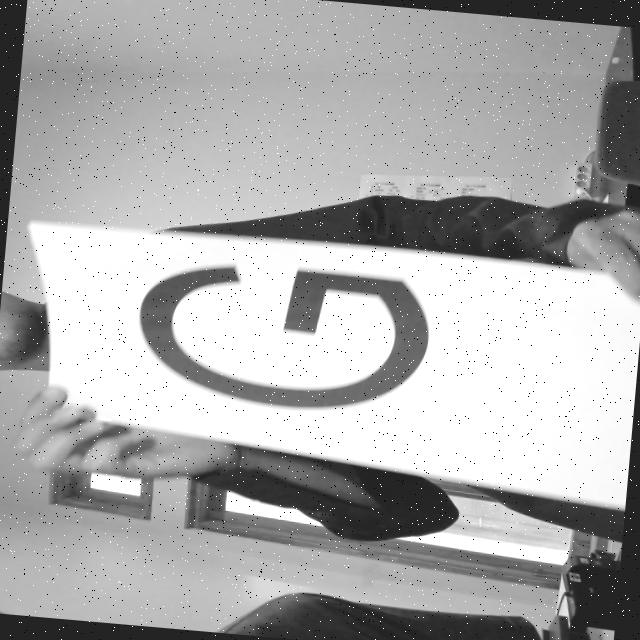g: (116, 246, 464, 434)
